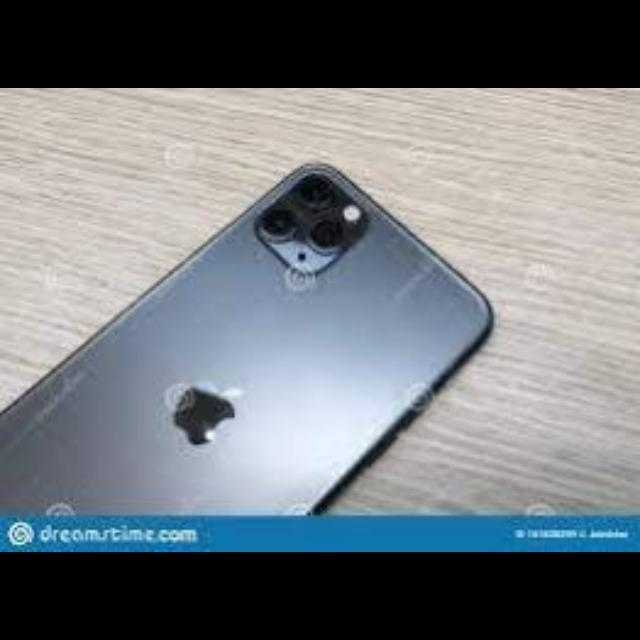phone: (8, 165, 501, 563)
